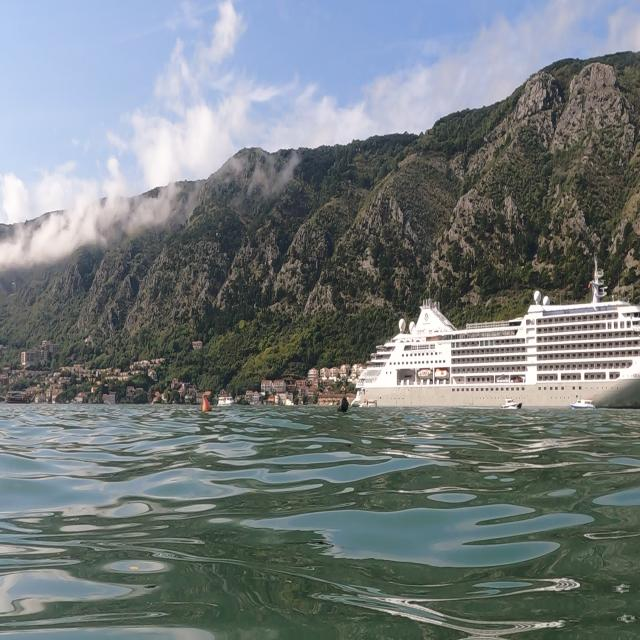boat: (348, 252, 638, 413)
buoy: (332, 391, 352, 422), (197, 392, 216, 418)
